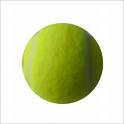tennis ball: (14, 19, 108, 107)
